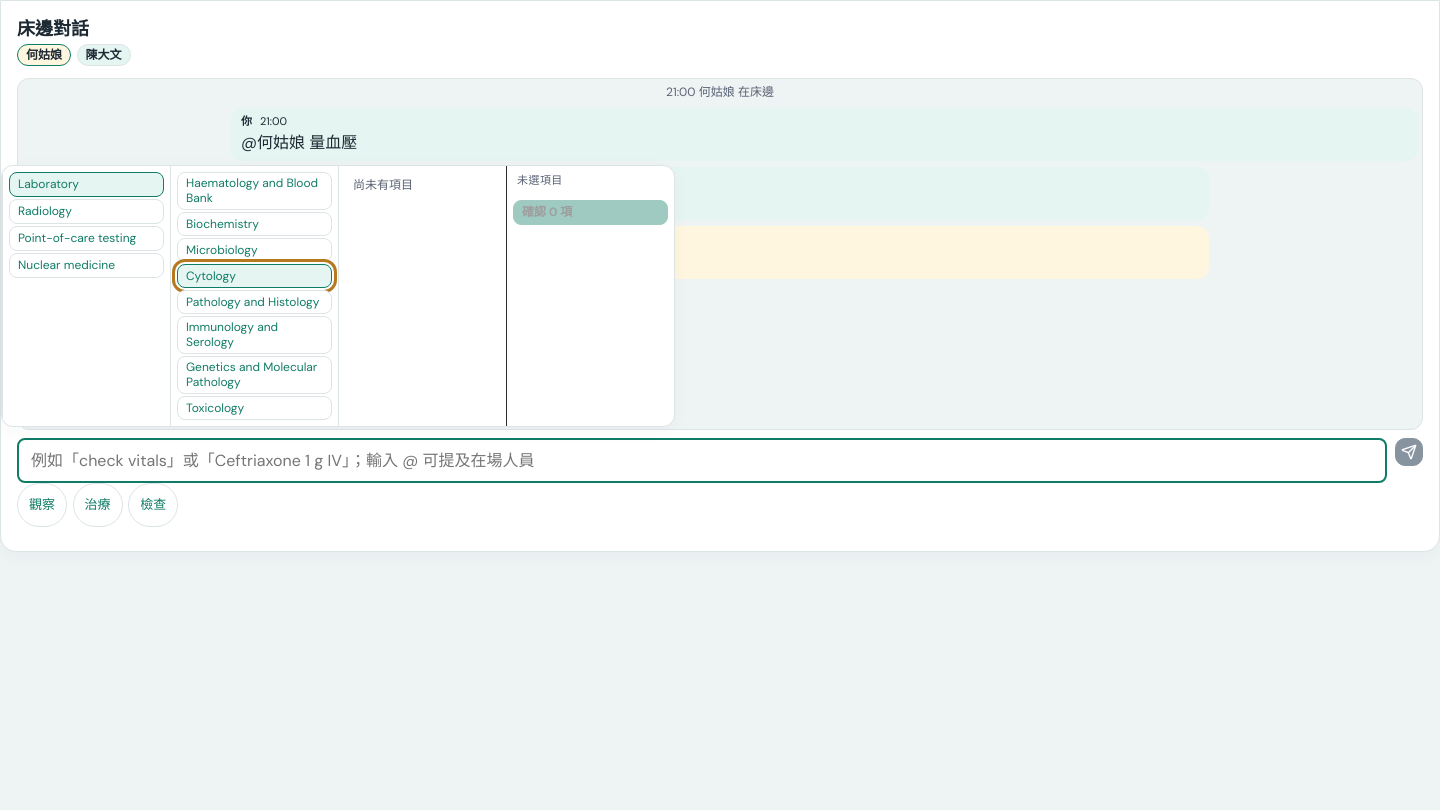
Scenario: ChatPanel › 檢查選單由左至右跟報告分類，空部門沒有假項目
The width and height of the screenshot is (1440, 810).
Earlier steps of the test are not shown.
Check: the text with test id "test-empty" reads "尚未有項目", box [353, 177, 413, 193]
What coordinates should you click on to do the following:
click the menu item with test id "test-section-haem"
I would click on:
 (254, 191)
Its box is [177, 172, 332, 210].
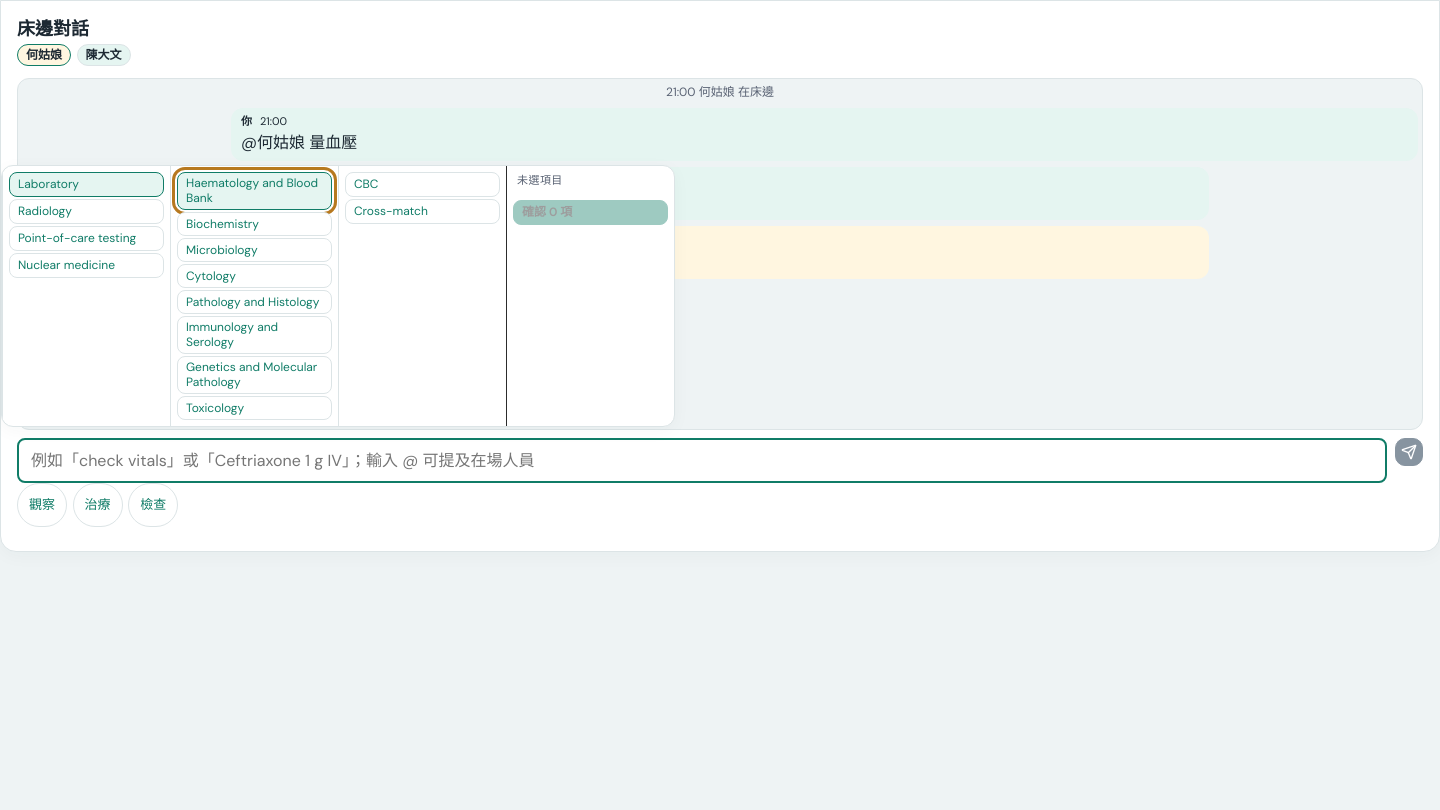
Check: the text with test id "test-basket-count" reads "未選項目", box [517, 173, 563, 187]
Check: the menu item with test id "test-action-qw.cbc" reads "CBC"
Check: the menu item with test id "test-action-qw.crossmatch" reads "Cross-match", box [345, 199, 500, 224]
What coordinates should you click on to do the following:
click the menu item with test id "test-action-qw.cbc"
I would click on:
 (422, 185)
Its box is [345, 172, 500, 197].
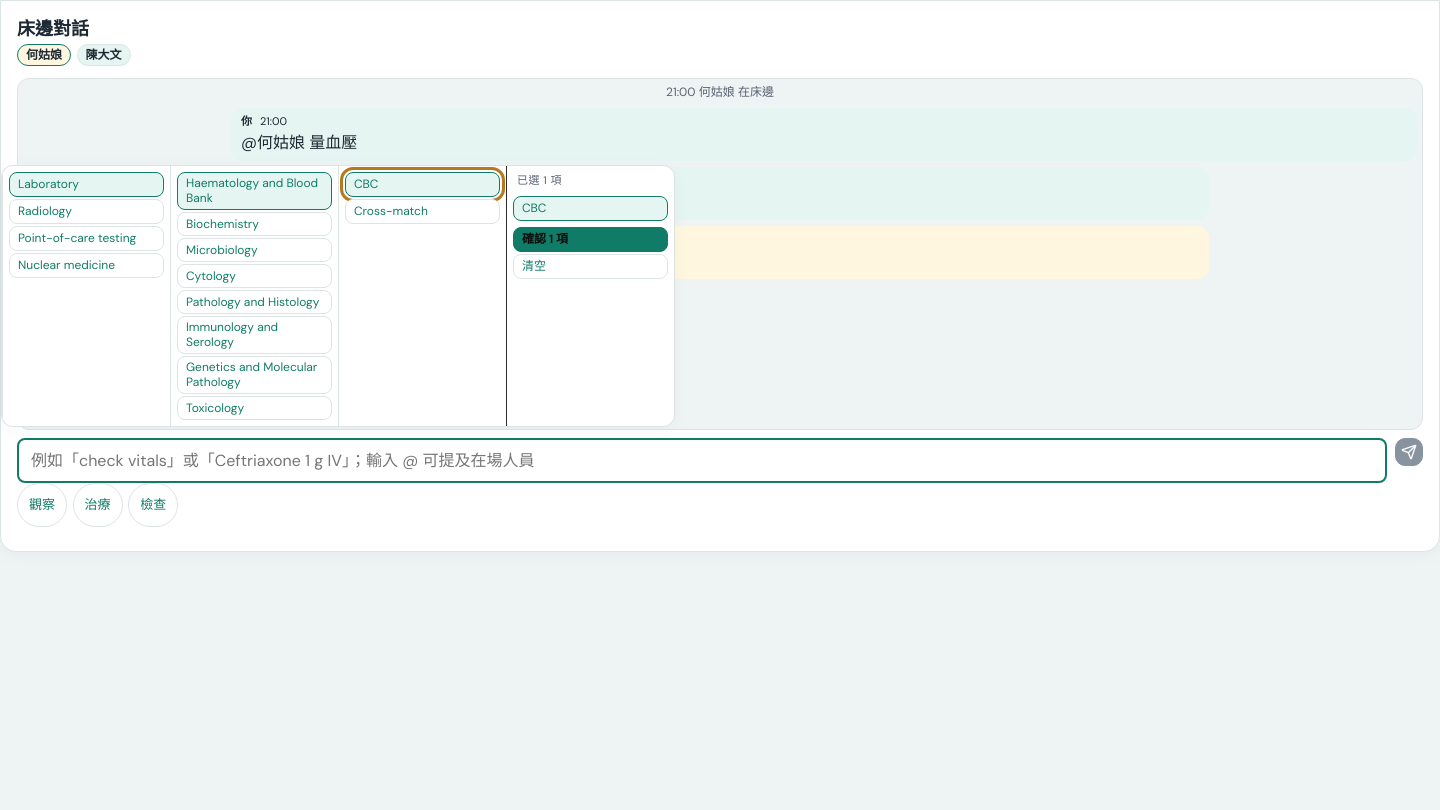
What coordinates should you click on to do the following:
click the menu item with test id "test-action-qw.crossmatch"
I would click on:
 (422, 212)
Its box is [345, 199, 500, 224].
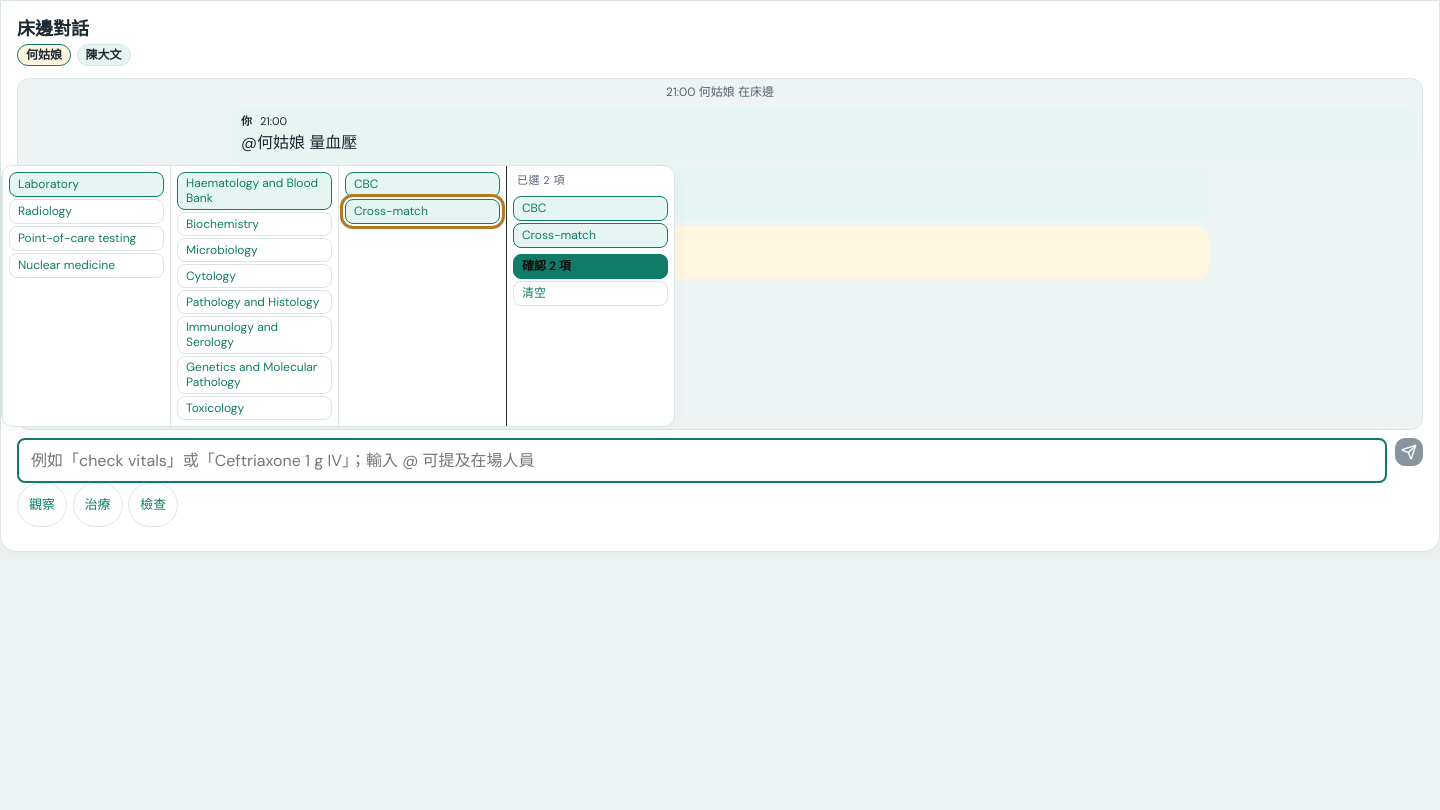
再按一次同一項會取消
What coordinates should you click on to do the following:
click the menu item with test id "test-action-qw.crossmatch"
I would click on:
 (422, 212)
Its box is [345, 199, 500, 224].
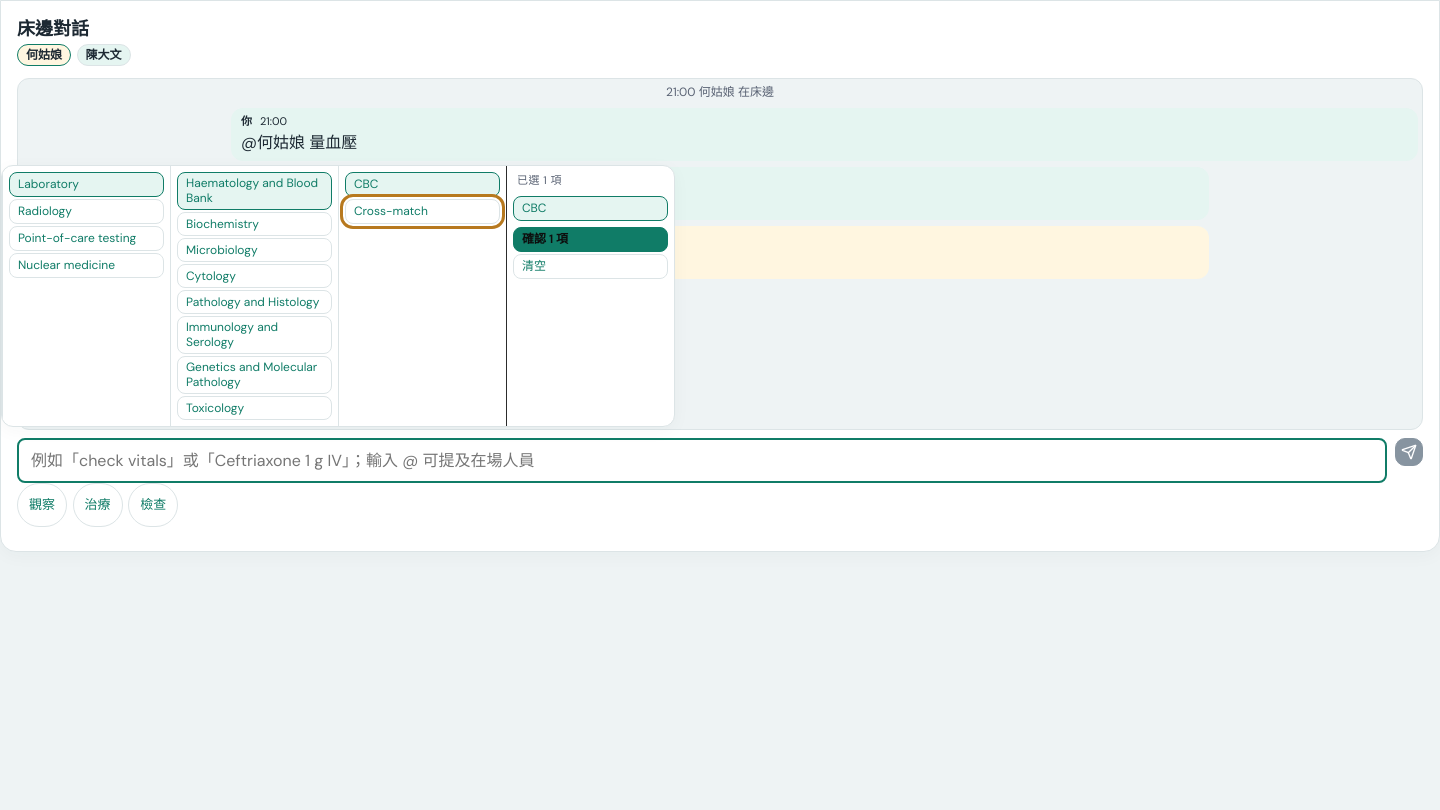
What coordinates should you click on to do the following:
click the button with test id "test-basket-confirm"
I would click on:
 (590, 239)
Its box is [513, 227, 668, 252].
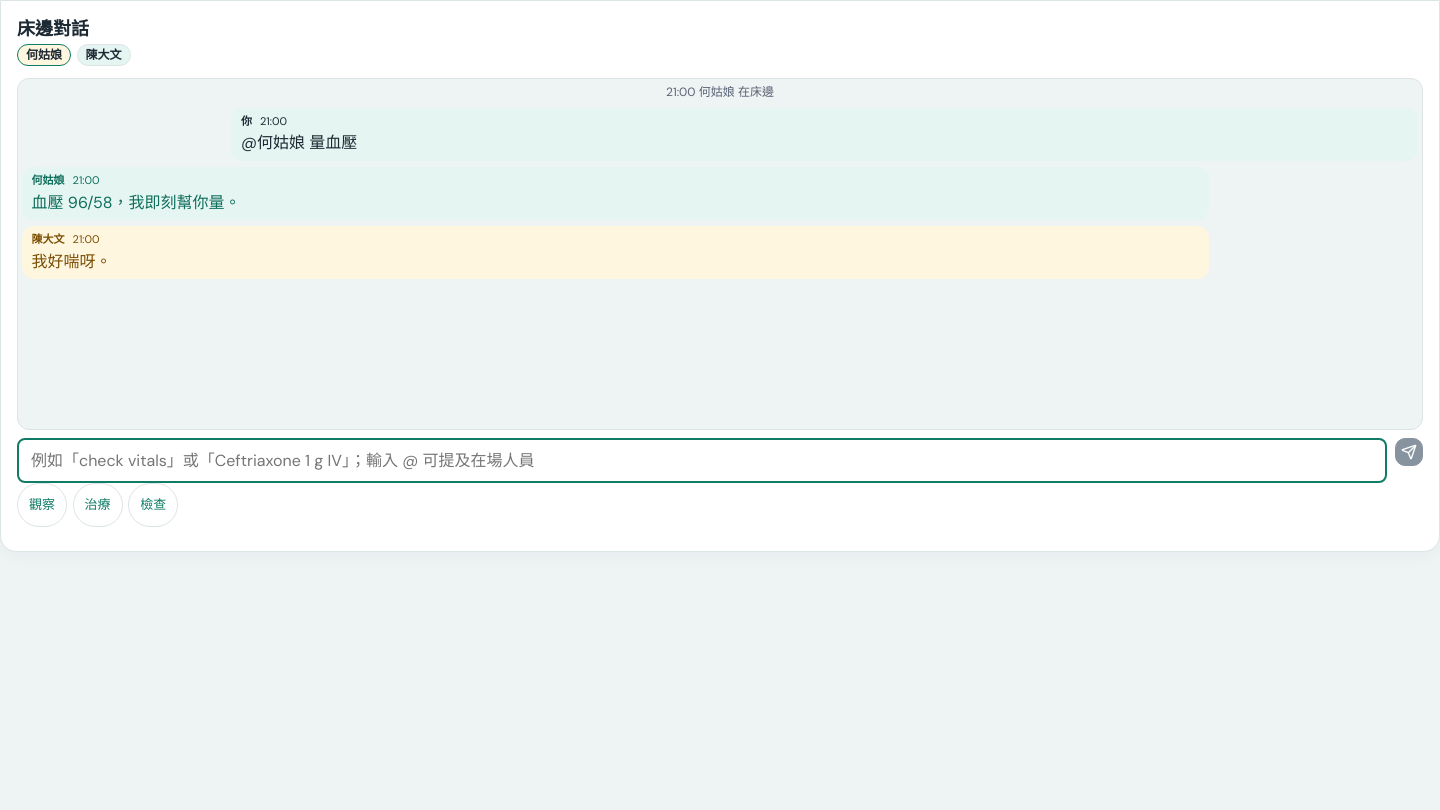
Check: the element with test id "test-menu" is gone
What coordinates should you click on to do the following:
click the button "觀察"
I would click on:
 (42, 505)
Its box is [17, 483, 67, 527].
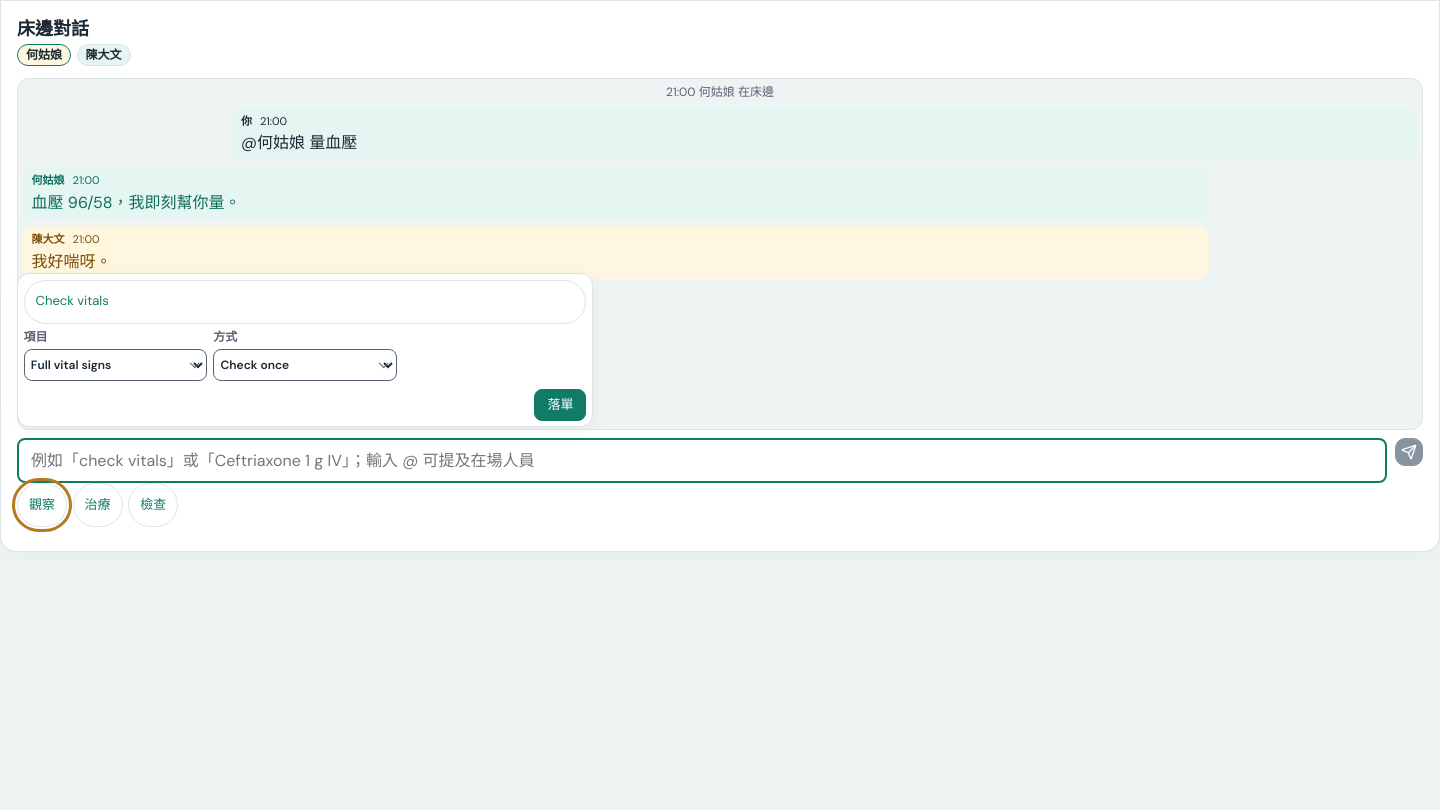
Check: the menu item "Check vitals" is shown, box [24, 280, 586, 324]
